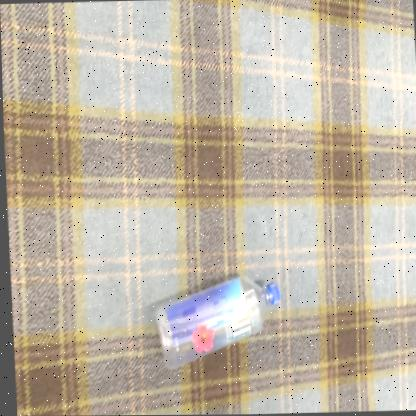Plastic: (152, 277, 277, 370)
